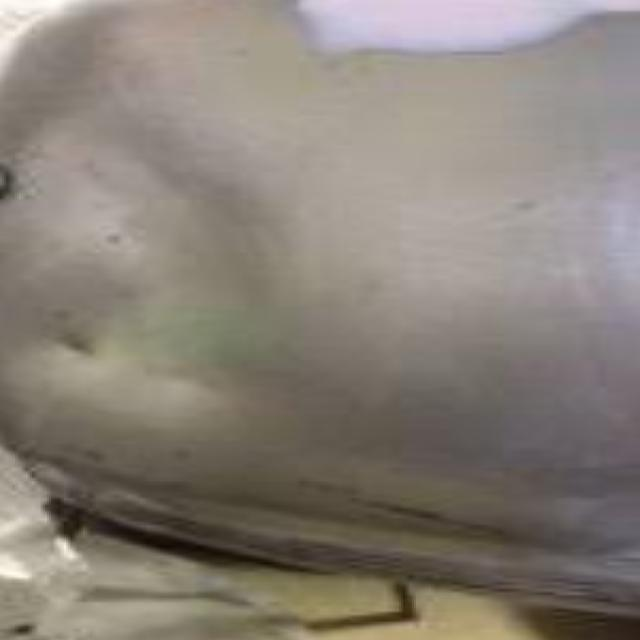dents: (10, 115, 392, 401)
